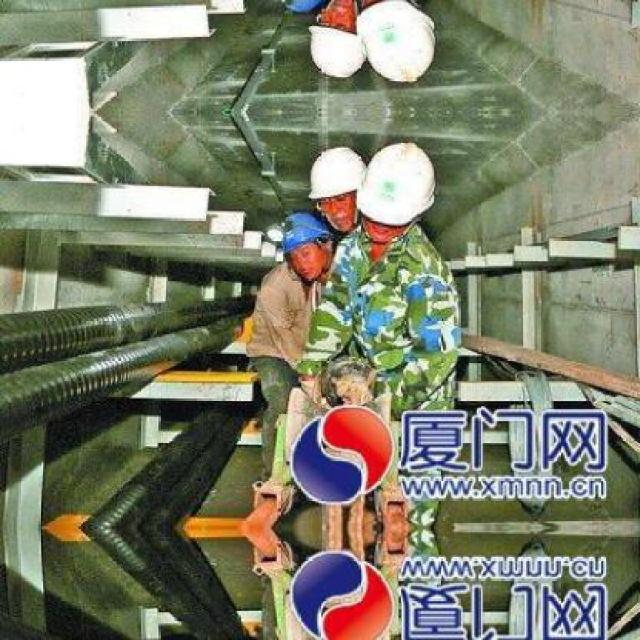helmet: (364, 133, 436, 249), (363, 0, 437, 89), (305, 138, 366, 228), (304, 0, 368, 85), (275, 204, 337, 279), (275, 0, 338, 18)
